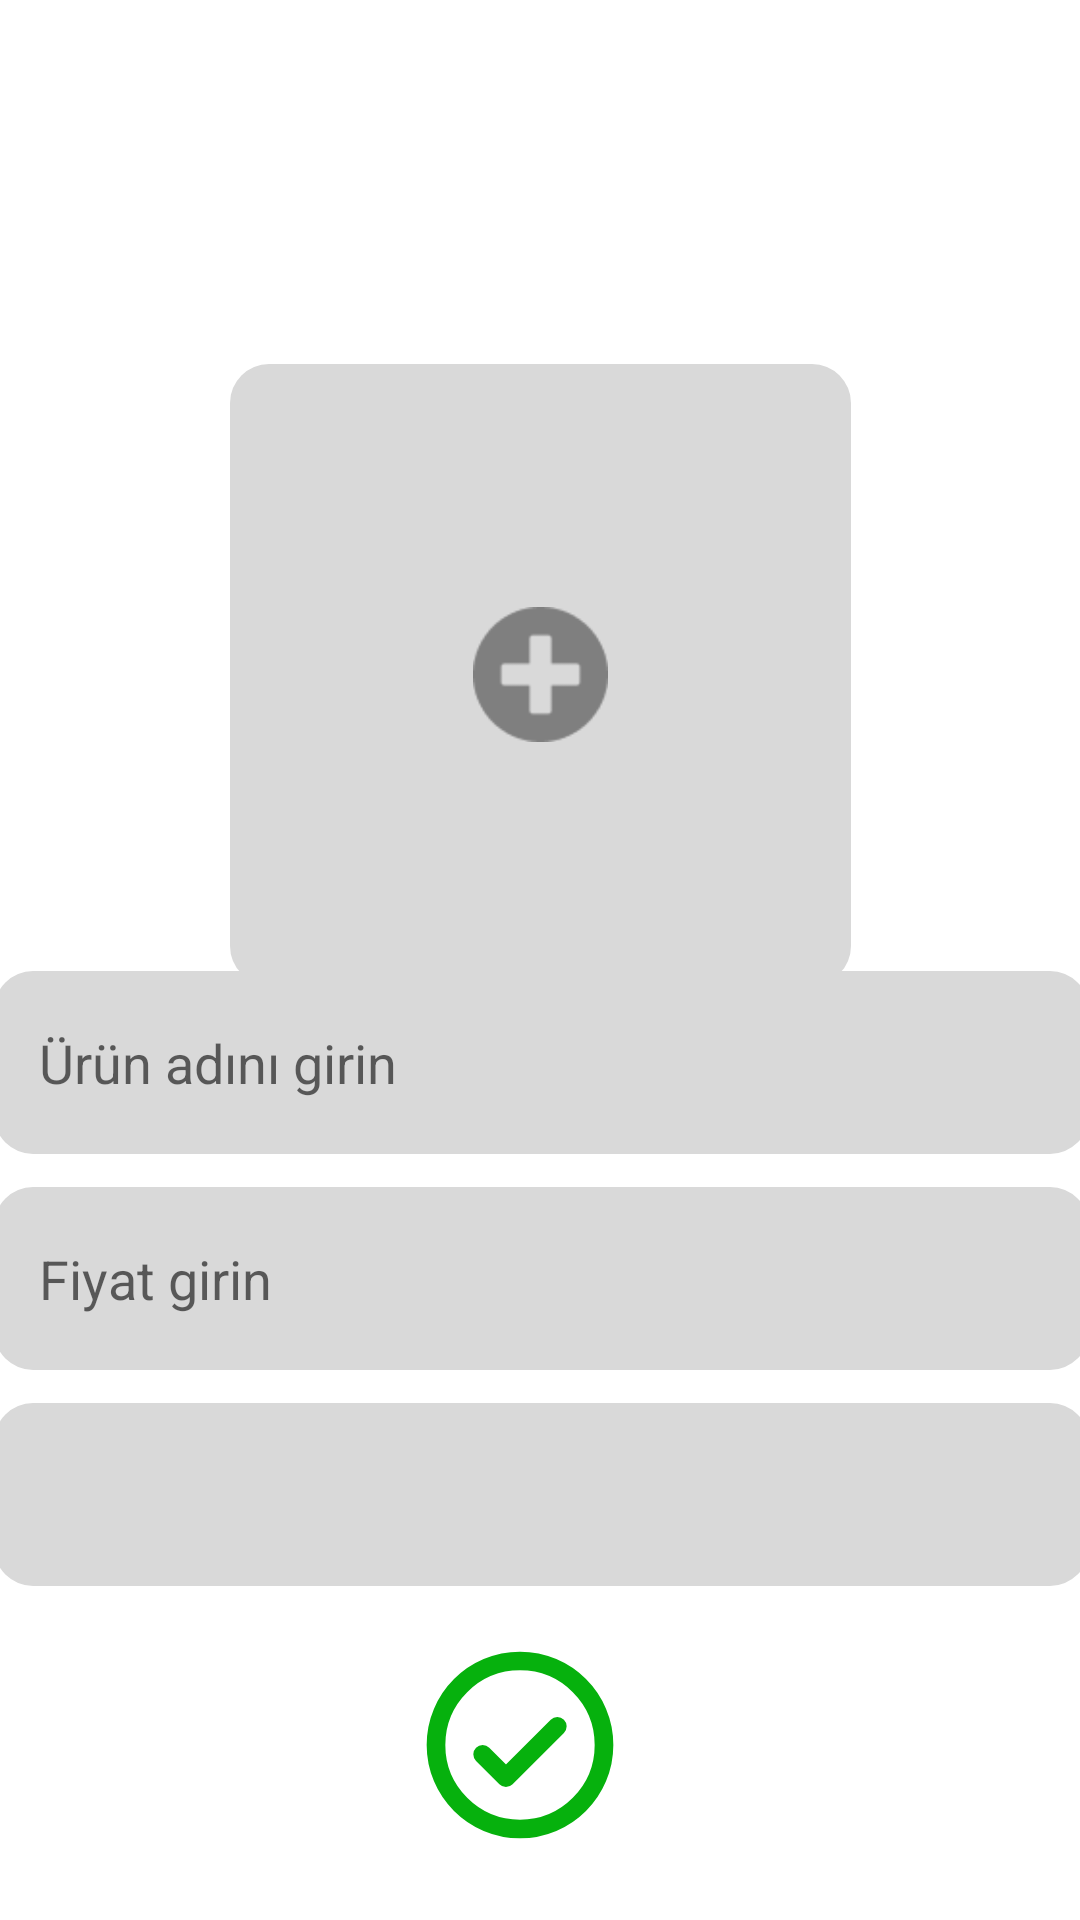

Icon bounding boxes for this 1080 × 1920 phone screenshot, format rect(x1, y1, x2, y2):
accept: rect(426, 1651, 614, 1839)
add: rect(473, 607, 608, 742)
